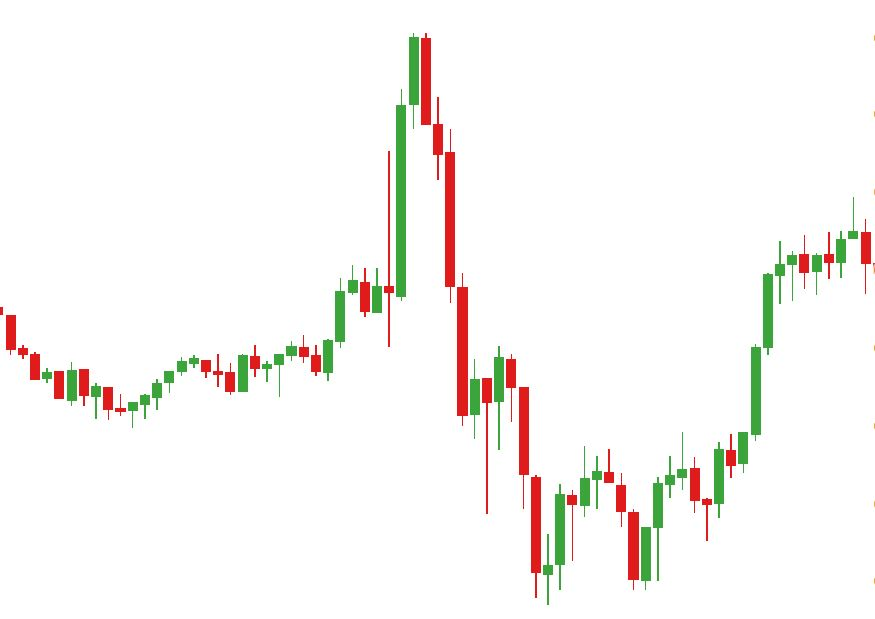buy: (567, 474, 653, 595)
